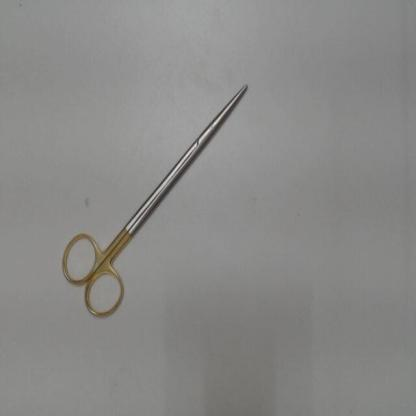7 Metzenbaum Scissors: (58, 80, 254, 325)
